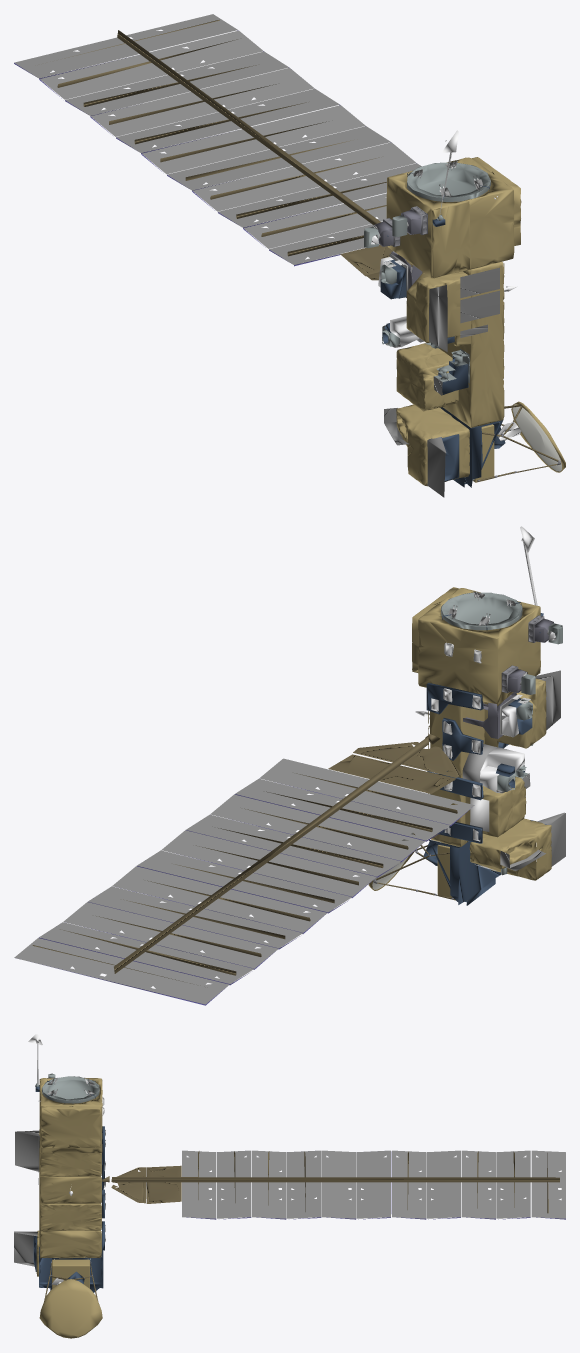
File: Aqua_lite.glb
3 views of the same model, one above another, from view 1: azimuth 30°, elevation 25°; view 2: azimuth 150°, elevation 25°; view 3: azimuth 270°, elevation 25° (orthographic). The views are drawn at different scales.
Visible parts, largest first — view 1: Aqua_Reduced_v0014 [Aqua_Layered_02 [Layer2]], Aqua_Reduced_v0014 [Aqua_Layered_02 [Layer22]], Aqua_Reduced_v0014 [Aqua_Layered_02 [Layer3]], Aqua_Reduced_v0014 [Aqua_Layered_02 [(unnamed)]], Aqua_Reduced_v0014 [Aqua_Layered_02 [Layer10]], Aqua_Reduced_v0014 [Aqua_Layered_02 [Layer9]], Aqua_Reduced_v0014 [Aqua_Layered_02 [Layer19]], Aqua_Reduced_v0014 [Aqua_Layered_02 [Layer20]], Aqua_Reduced_v0014 [Aqua_Layered_02 [Layer21]], Aqua_Reduced_v0014 [Aqua_Layered_02 [Layer14]], Aqua_Reduced_v0014 [Aqua_Layered_02 [Layer18]], Aqua_Reduced_v0014 [Aqua_Layered_02 [Layer16]] (+4 smaller); view 2: Aqua_Reduced_v0014 [Aqua_Layered_02 [Layer2]], Aqua_Reduced_v0014 [Aqua_Layered_02 [Layer3]], Aqua_Reduced_v0014 [Aqua_Layered_02 [Layer22]], Aqua_Reduced_v0014 [Aqua_Layered_02 [Layer9]], Aqua_Reduced_v0014 [Aqua_Layered_02 [Layer10]], Aqua_Reduced_v0014 [Aqua_Layered_02 [Layer19]], Aqua_Reduced_v0014 [Aqua_Layered_02 [Layer4]], Aqua_Reduced_v0014 [Aqua_Layered_02 [Layer16]], Aqua_Reduced_v0014 [Aqua_Layered_02 [(unnamed)]], Aqua_Reduced_v0014 [Aqua_Layered_02 [Layer14]], Aqua_Reduced_v0014 [Aqua_Layered_02 [Layer17]], Aqua_Reduced_v0014 [Aqua_Layered_02 [Layer20]] (+4 smaller); view 3: Aqua_Reduced_v0014 [Aqua_Layered_02 [Layer2]], Aqua_Reduced_v0014 [Aqua_Layered_02 [Layer23]], Aqua_Reduced_v0014 [Aqua_Layered_02 [Layer3]], Aqua_Reduced_v0014 [Aqua_Layered_02 [Layer22]], Aqua_Reduced_v0014 [Layer26], Aqua_Reduced_v0014 [Aqua_Layered_02 [Layer14]], Aqua_Reduced_v0014 [Aqua_Layered_02 [Layer9]], Aqua_Reduced_v0014 [Aqua_Layered_02 [Layer10]], Aqua_Reduced_v0014 [Layer24], Aqua_Reduced_v0014 [Aqua_Layered_02 [(unnamed)]], Aqua_Reduced_v0014 [Aqua_Layered_02 [Layer4]].
Part boxes in pixels (x1=…): Aqua_Reduced_v0014 [Aqua_Layered_02 [Layer2]]: x1=14, y1=14, x2=421, y2=264; Aqua_Reduced_v0014 [Aqua_Layered_02 [Layer22]]: x1=386, y1=157, x2=521, y2=278; Aqua_Reduced_v0014 [Aqua_Layered_02 [Layer3]]: x1=57, y1=20, x2=422, y2=280; Aqua_Reduced_v0014 [Aqua_Layered_02 [(unnamed)]]: x1=429, y1=261, x2=503, y2=427; Aqua_Reduced_v0014 [Aqua_Layered_02 [Layer10]]: x1=364, y1=162, x2=490, y2=482; Aqua_Reduced_v0014 [Aqua_Layered_02 [Layer9]]: x1=380, y1=172, x2=505, y2=487; Aqua_Reduced_v0014 [Aqua_Layered_02 [Layer19]]: x1=396, y1=404, x2=469, y2=486; Aqua_Reduced_v0014 [Aqua_Layered_02 [Layer20]]: x1=396, y1=343, x2=458, y2=411; Aqua_Reduced_v0014 [Aqua_Layered_02 [Layer21]]: x1=406, y1=271, x2=471, y2=346; Aqua_Reduced_v0014 [Aqua_Layered_02 [Layer14]]: x1=384, y1=284, x2=447, y2=497; Aqua_Reduced_v0014 [Aqua_Layered_02 [Layer18]]: x1=460, y1=267, x2=499, y2=337; Aqua_Reduced_v0014 [Aqua_Layered_02 [Layer16]]: x1=371, y1=130, x2=521, y2=440; Aqua_Reduced_v0014 [Aqua_Layered_02 [Layer2]]: x1=14, y1=758, x2=474, y2=1004; Aqua_Reduced_v0014 [Aqua_Layered_02 [Layer3]]: x1=32, y1=733, x2=461, y2=983; Aqua_Reduced_v0014 [Aqua_Layered_02 [Layer22]]: x1=412, y1=587, x2=540, y2=704; Aqua_Reduced_v0014 [Aqua_Layered_02 [Layer9]]: x1=423, y1=602, x2=546, y2=905; Aqua_Reduced_v0014 [Aqua_Layered_02 [Layer10]]: x1=441, y1=592, x2=562, y2=900; Aqua_Reduced_v0014 [Aqua_Layered_02 [Layer19]]: x1=469, y1=818, x2=551, y2=880; Aqua_Reduced_v0014 [Aqua_Layered_02 [Layer4]]: x1=39, y1=785, x2=469, y2=1005; Aqua_Reduced_v0014 [Aqua_Layered_02 [Layer16]]: x1=415, y1=526, x2=556, y2=842; Aqua_Reduced_v0014 [Aqua_Layered_02 [(unnamed)]]: x1=430, y1=701, x2=484, y2=846; Aqua_Reduced_v0014 [Aqua_Layered_02 [Layer14]]: x1=500, y1=670, x2=565, y2=870; Aqua_Reduced_v0014 [Aqua_Layered_02 [Layer17]]: x1=431, y1=642, x2=526, y2=870; Aqua_Reduced_v0014 [Aqua_Layered_02 [Layer20]]: x1=465, y1=776, x2=526, y2=837; Aqua_Reduced_v0014 [Aqua_Layered_02 [Layer2]]: x1=182, y1=1150, x2=565, y2=1218; Aqua_Reduced_v0014 [Aqua_Layered_02 [Layer23]]: x1=40, y1=1150, x2=101, y2=1257; Aqua_Reduced_v0014 [Aqua_Layered_02 [Layer3]]: x1=102, y1=1151, x2=559, y2=1213; Aqua_Reduced_v0014 [Aqua_Layered_02 [Layer22]]: x1=39, y1=1078, x2=102, y2=1153; Aqua_Reduced_v0014 [Layer26]: x1=39, y1=1279, x2=102, y2=1338; Aqua_Reduced_v0014 [Aqua_Layered_02 [Layer14]]: x1=14, y1=1130, x2=39, y2=1266; Aqua_Reduced_v0014 [Aqua_Layered_02 [Layer9]]: x1=33, y1=1080, x2=104, y2=1292; Aqua_Reduced_v0014 [Aqua_Layered_02 [Layer10]]: x1=35, y1=1073, x2=99, y2=1261; Aqua_Reduced_v0014 [Layer24]: x1=52, y1=1259, x2=89, y2=1288; Aqua_Reduced_v0014 [Aqua_Layered_02 [(unnamed)]]: x1=39, y1=1140, x2=100, y2=1258; Aqua_Reduced_v0014 [Aqua_Layered_02 [Layer4]]: x1=186, y1=1151, x2=565, y2=1219.
Bounding box in the file's own units: 124 × 230 × 434.
